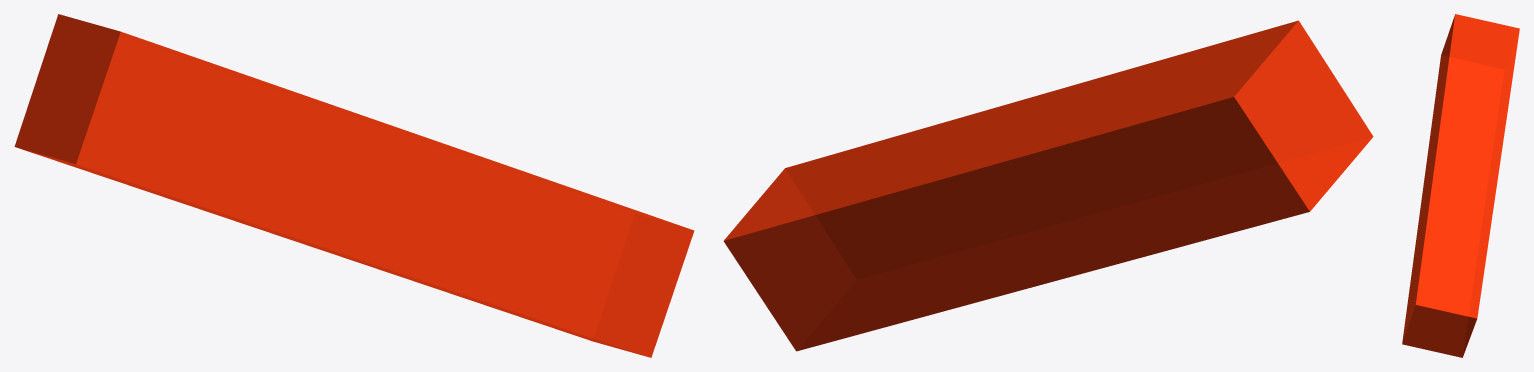
The model's file is Event_421278790_EBrechit_1.fbx.
3 renders of one model, left to right at view 1: azimuth 30°, elevation 25°; view 2: azimuth 150°, elevation 25°; view 3: azimuth 270°, elevation 25°, orthographic. The views are drawn at different scales.
Visible parts, largest first — view 1: Model; view 2: Model; view 3: Model.
Boxes of the visible parts, x1,y1,x2,y2 form: Model: [14, 14, 694, 357]; Model: [723, 20, 1373, 351]; Model: [1402, 14, 1519, 357].
Bounding box in the file's own units: 0.3139 × 0.2182 × 0.1044.
